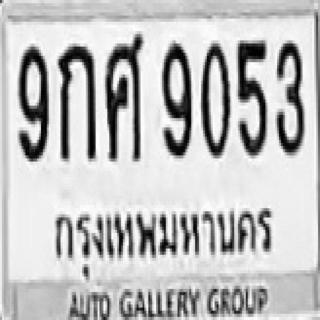A01: (56, 40, 94, 158)
A38: (104, 31, 142, 158)
N00: (199, 40, 228, 155)
N03: (275, 37, 302, 152)
N05: (236, 37, 265, 155)
N09: (160, 40, 191, 155), (16, 44, 47, 158)
P04: (49, 194, 276, 271)
